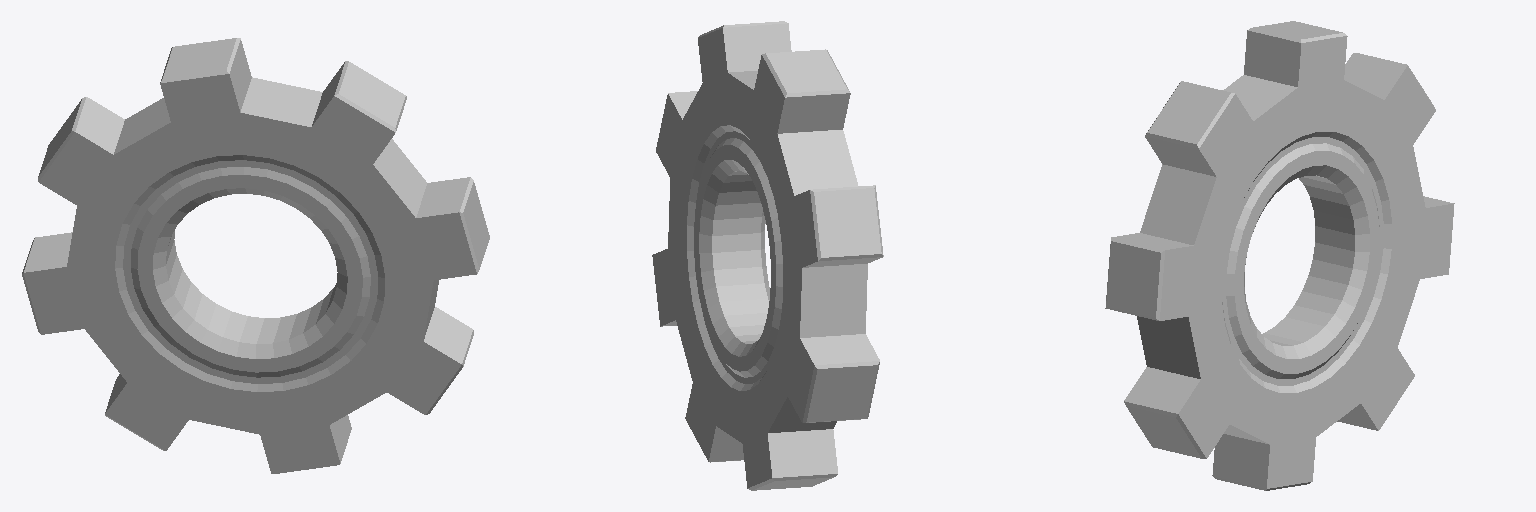
The model's file is gear.obj.
3 renders of one model, left to right at view 1: azimuth 30°, elevation 25°; view 2: azimuth 150°, elevation 25°; view 3: azimuth 270°, elevation 25°, orthographic.
Parts seen in each view (by area): view 1: large_gear_Circle; view 2: large_gear_Circle; view 3: large_gear_Circle.
Part boxes in pixels (x1,y1,x2,y2): large_gear_Circle: (22, 38, 489, 473); large_gear_Circle: (652, 21, 883, 490); large_gear_Circle: (1105, 21, 1454, 490).
Size of the model in its own units: 1.07 by 1.26 by 0.9374.